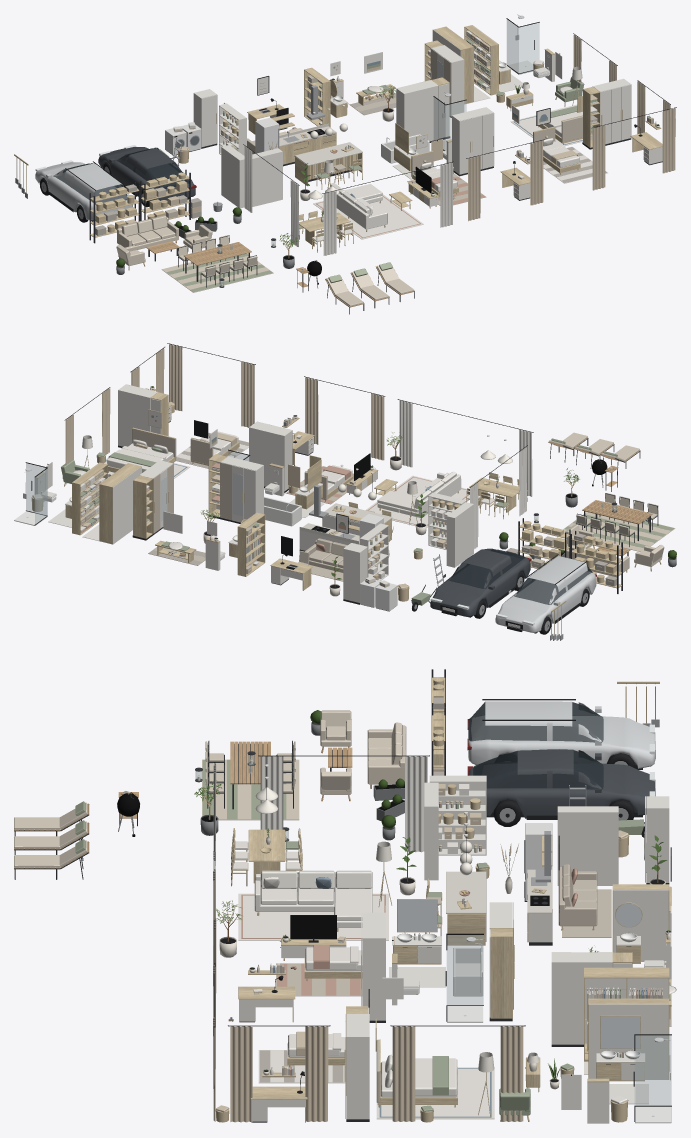
Rendered from furniture-lite.glb.
3 renders of one model, top to bottom at view 1: azimuth 30°, elevation 25°; view 2: azimuth 150°, elevation 25°; view 3: azimuth 270°, elevation 25°, orthographic. The views are drawn at different scales.
Parts seen in each view (by area): view 1: furniture_terrace_t_fabric, furniture_R06_f_white, furniture_R04_f_oak, furniture_R04_f_linen, furniture_R04_f_white, furniture_R03_f_white, furniture_R08_f_white, furniture_R01_f_car_paint_a, furniture_R13_f_sand, furniture_R01_f_car_paint_b, furniture_R01_f_oak, furniture_R13_f_white (+31 smaller); view 2: furniture_R01_f_car_paint_a, furniture_terrace_t_fabric, furniture_R01_f_car_paint_b, furniture_R04_f_white, furniture_R04_f_linen, furniture_R06_f_white, furniture_R13_f_sand, furniture_R03_f_white, furniture_R02_f_white, furniture_R04_f_oak, furniture_R08_f_white, furniture_R11_f_oak (+34 smaller); view 3: furniture_terrace_t_fabric, furniture_R01_f_car_paint_a, furniture_R04_f_linen, furniture_R01_f_car_paint_b, furniture_R02_f_white, furniture_R01_f_car_glass, furniture_R13_f_sand, furniture_R04_f_white, furniture_R11_f_white, furniture_R06_f_white, furniture_R04_f_oak, furniture_R10_f_linen (+43 smaller).
Boxes of the visible parts, box(x1,y1,x2,y2) form: furniture_terrace_t_fabric: box(116, 215, 414, 306); furniture_R06_f_white: box(364, 45, 464, 141); furniture_R04_f_oak: box(271, 113, 438, 252); furniture_R04_f_linen: box(312, 182, 423, 241); furniture_R04_f_white: box(244, 105, 452, 255); furniture_R03_f_white: box(221, 145, 282, 208); furniture_R08_f_white: box(417, 107, 530, 199); furniture_R01_f_car_paint_a: box(35, 162, 132, 220); furniture_R13_f_sand: box(551, 81, 675, 190); furniture_R01_f_car_paint_b: box(98, 147, 195, 202); furniture_R01_f_oak: box(14, 154, 189, 237); furniture_R13_f_white: box(537, 78, 662, 164); furniture_R01_f_car_paint_a: box(495, 556, 596, 632); furniture_terrace_t_fabric: box(549, 432, 675, 577); furniture_R01_f_car_paint_b: box(430, 549, 530, 616); furniture_R04_f_white: box(299, 400, 532, 550); furniture_R04_f_linen: box(349, 471, 527, 527); furniture_R06_f_white: box(133, 456, 263, 557); furniture_R13_f_sand: box(131, 344, 254, 446); furniture_R03_f_white: box(428, 492, 473, 567); furniture_R02_f_white: box(343, 523, 389, 602); furniture_R04_f_oak: box(322, 469, 527, 541); furniture_R08_f_white: box(249, 417, 313, 491); furniture_R11_f_oak: box(72, 462, 140, 543); furniture_terrace_t_fabric: box(14, 710, 406, 867); furniture_R01_f_car_paint_a: box(468, 701, 655, 768); furniture_R04_f_linen: box(232, 841, 388, 943); furniture_R01_f_car_paint_b: box(468, 749, 655, 818); furniture_R02_f_white: box(557, 796, 669, 885); furniture_R01_f_car_glass: box(468, 702, 603, 789); furniture_R13_f_sand: box(213, 965, 328, 1122); furniture_R04_f_white: box(213, 756, 552, 958); furniture_R11_f_white: box(585, 978, 668, 1079); furniture_R06_f_white: box(489, 902, 671, 1044); furniture_R04_f_oak: box(231, 828, 552, 960); furniture_R10_f_linen: box(376, 1054, 494, 1119).
Size of the model in its own units: 22.95 by 2.78 by 16.3.
45 materials, 3 textured.
